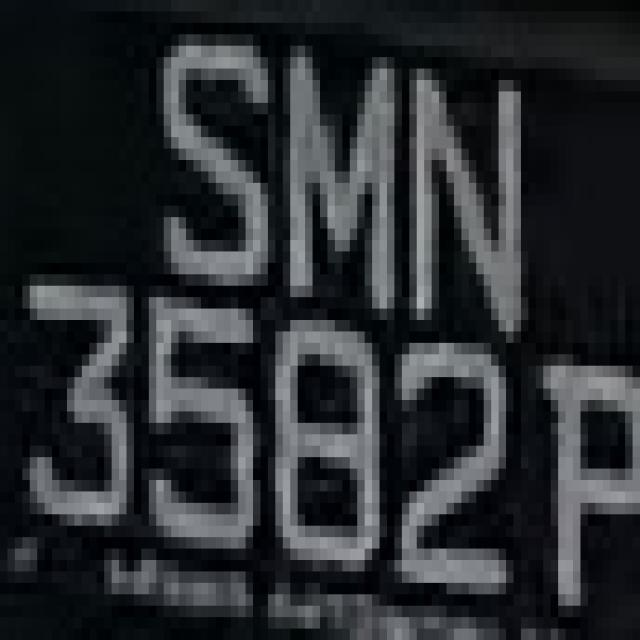2: (394, 308, 536, 628)
3: (7, 251, 134, 583)
5: (149, 240, 260, 583)
8: (260, 297, 394, 606)
M: (260, 23, 410, 320)
N: (402, 46, 551, 366)
P: (536, 332, 625, 617)
S: (134, 11, 283, 332)
